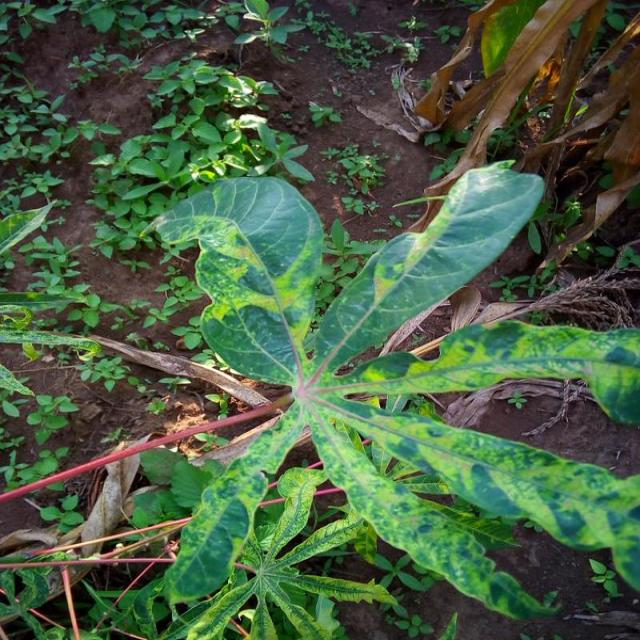Mosaico: (173, 167, 614, 602)
